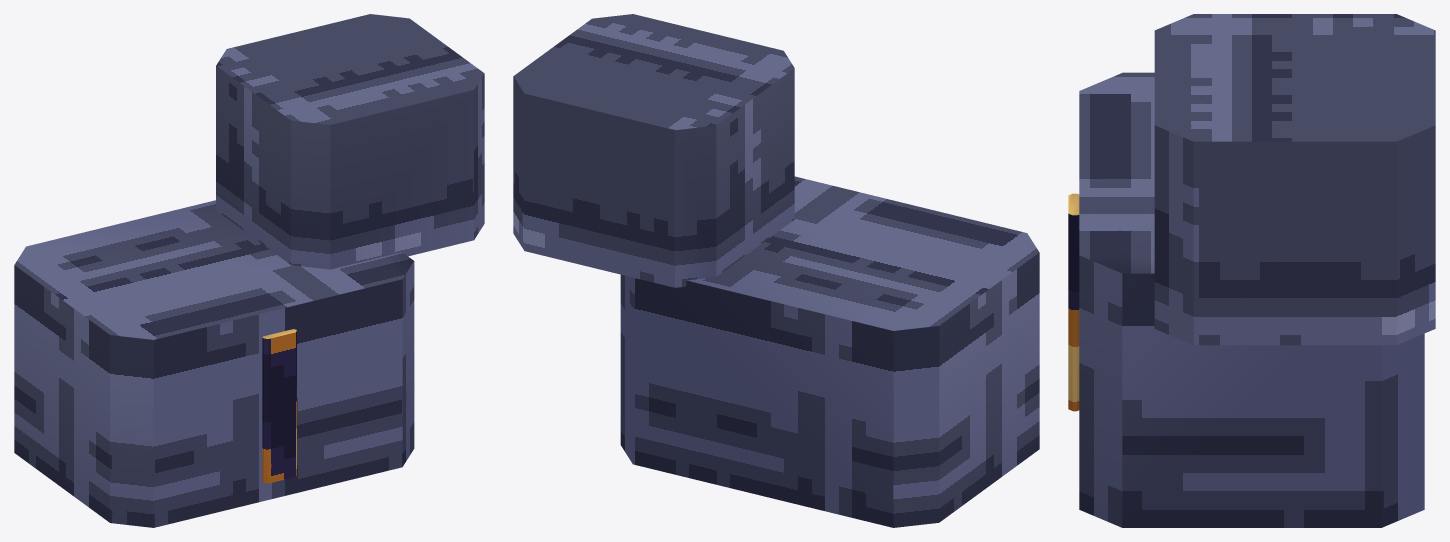
File: cydress.crates.glb
3 renders of one model, left to right at view 1: azimuth 30°, elevation 25°; view 2: azimuth 150°, elevation 25°; view 3: azimuth 270°, elevation 25°, orthographic. The views are drawn at different scales.
Visible parts, largest first — view 1: kit_body; view 2: kit_body; view 3: kit_body.
Boxes of the visible parts, x1,y1,x2,y2 form: kit_body: [14, 14, 484, 527]; kit_body: [513, 14, 1039, 527]; kit_body: [1068, 14, 1435, 527].
Size of the model in its own units: 1.45 by 1.15 by 0.85.
Materials: 3 (3 with a texture image).
